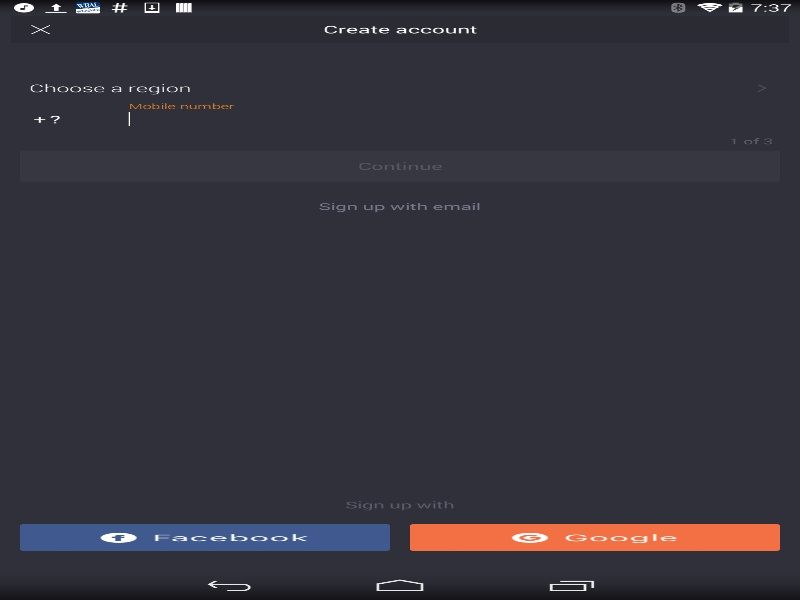Button: (409, 523, 780, 551), (20, 523, 390, 551), (10, 15, 69, 43)
Input: (119, 109, 749, 132)
